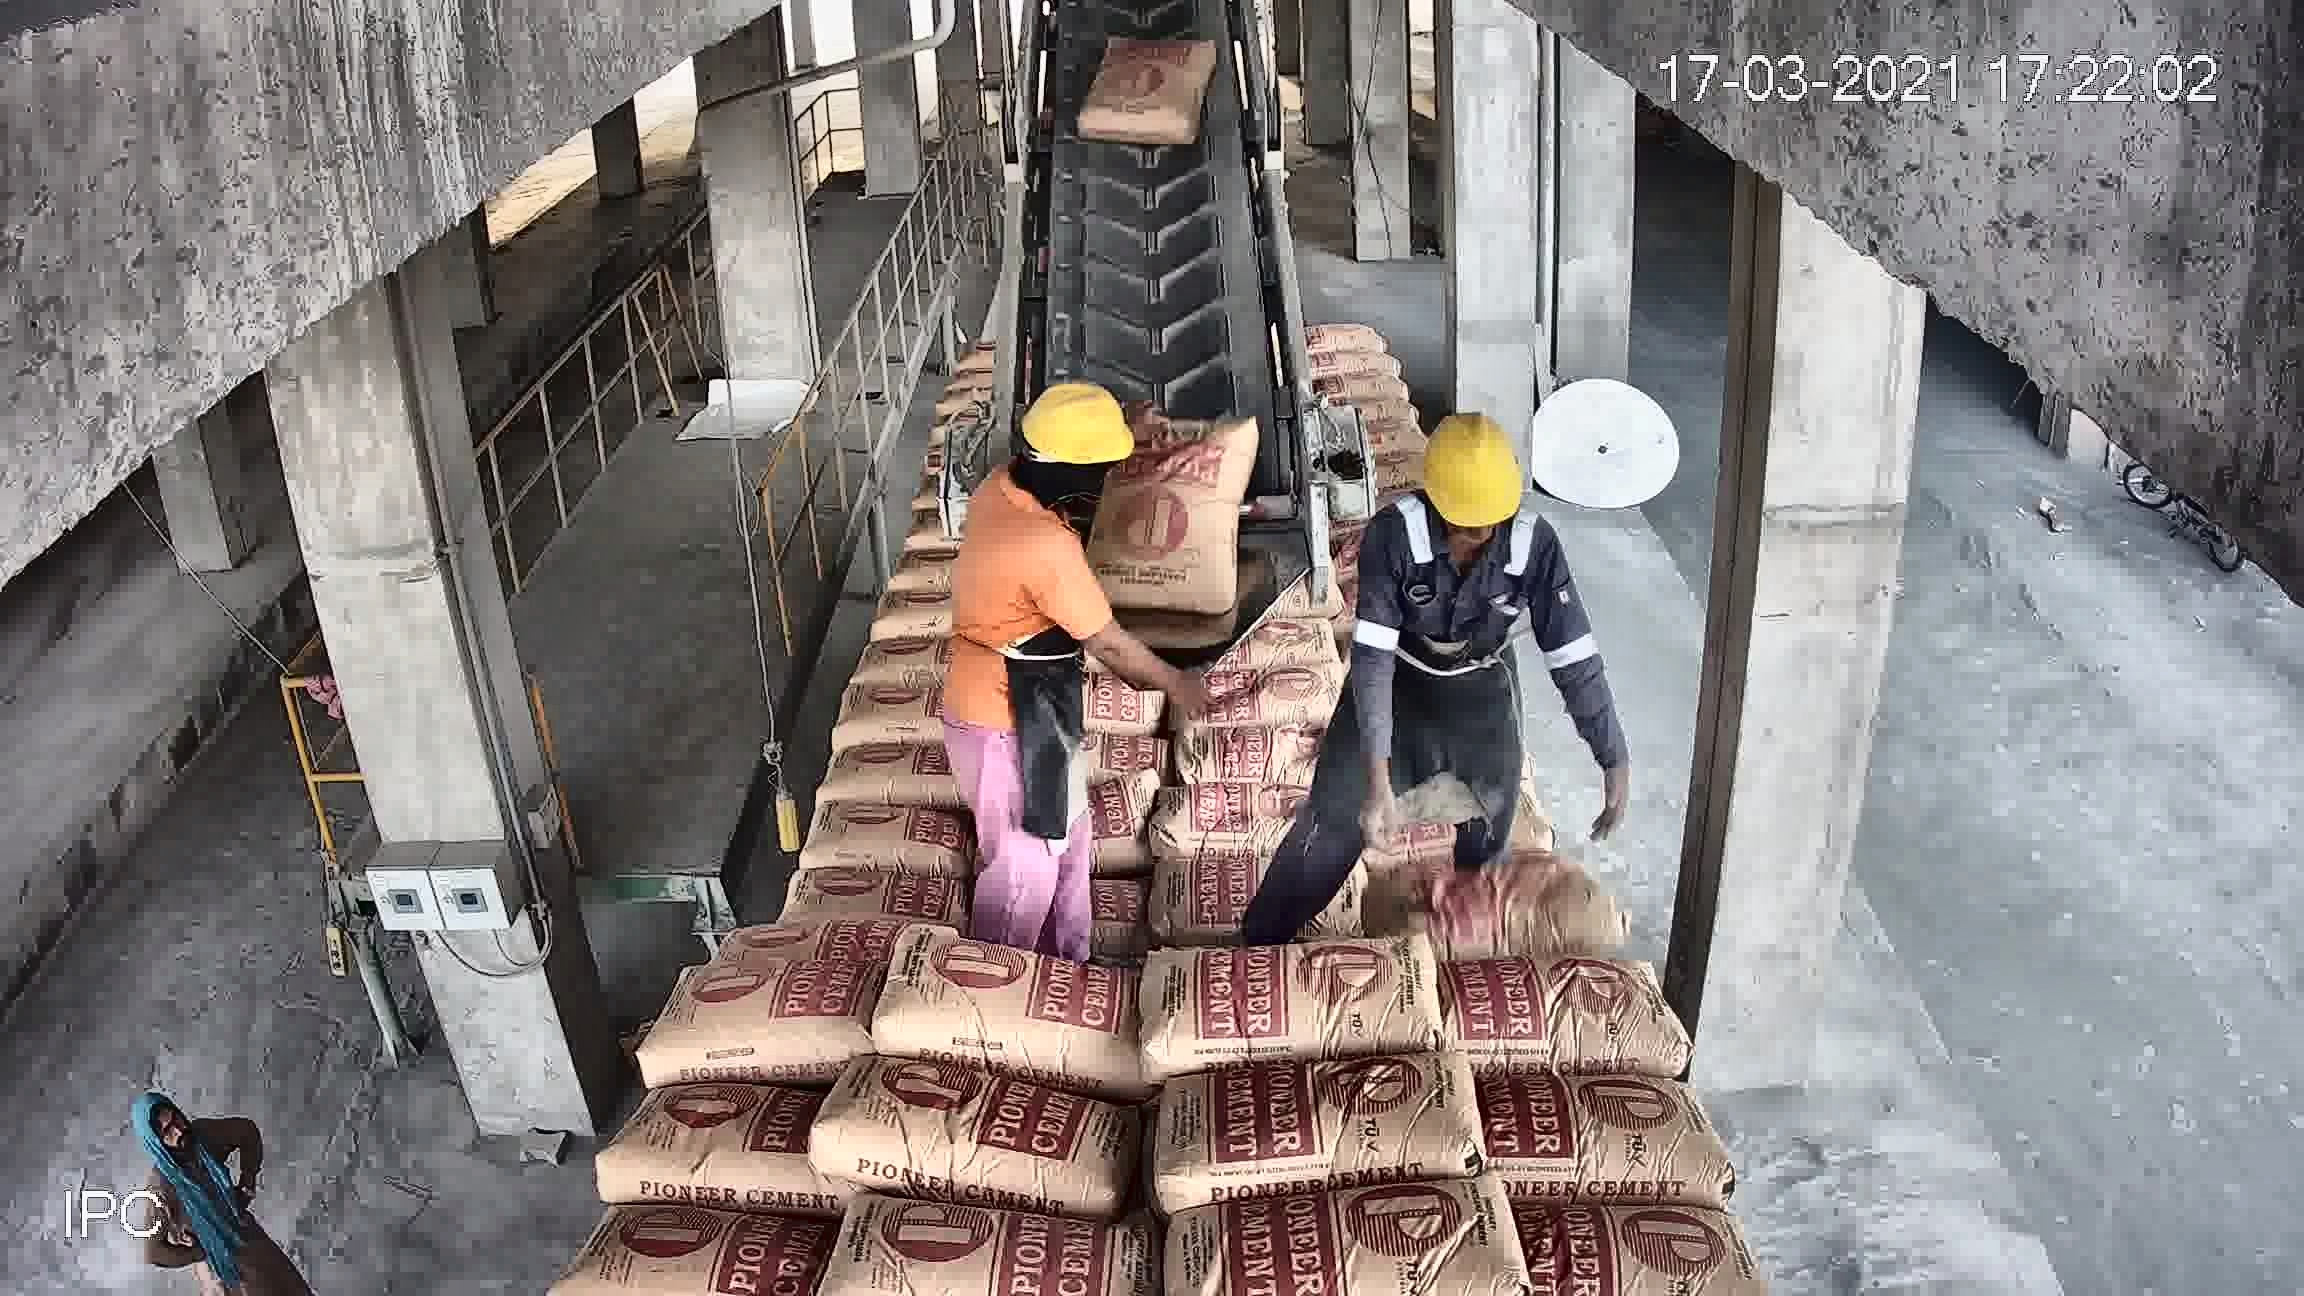bag: (1074, 476, 1222, 658), (1093, 279, 1215, 441), (1093, 43, 1211, 153)
bag_h: (1146, 1033, 1476, 1217), (1138, 921, 1442, 1074), (1152, 1161, 1532, 1280), (809, 1065, 1139, 1201), (1476, 1063, 1764, 1204), (1456, 937, 1701, 1074), (881, 942, 1122, 1063), (1152, 829, 1412, 942), (1503, 1201, 1791, 1296), (813, 1214, 1157, 1290), (592, 1082, 809, 1201), (652, 962, 862, 1071), (1147, 739, 1385, 834), (886, 850, 1127, 935), (665, 878, 902, 964), (1391, 859, 1639, 937), (888, 764, 1135, 840), (1312, 617, 1514, 707), (1413, 766, 1589, 861), (722, 775, 902, 862), (560, 1225, 817, 1285), (828, 684, 992, 744), (772, 726, 923, 791), (839, 623, 956, 677)
belt: (1032, 9, 1305, 502)
